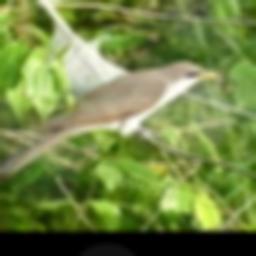Cuckoo: (0, 61, 226, 185)
